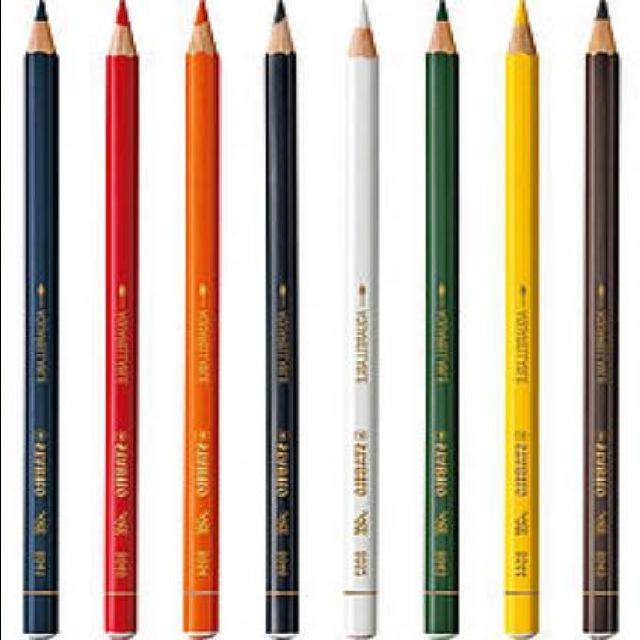pencil: (332, 0, 394, 68), (414, 0, 472, 71), (250, 0, 312, 66), (13, 0, 66, 75), (96, 0, 151, 72), (491, 0, 546, 71), (170, 0, 223, 72), (575, 0, 623, 68)
